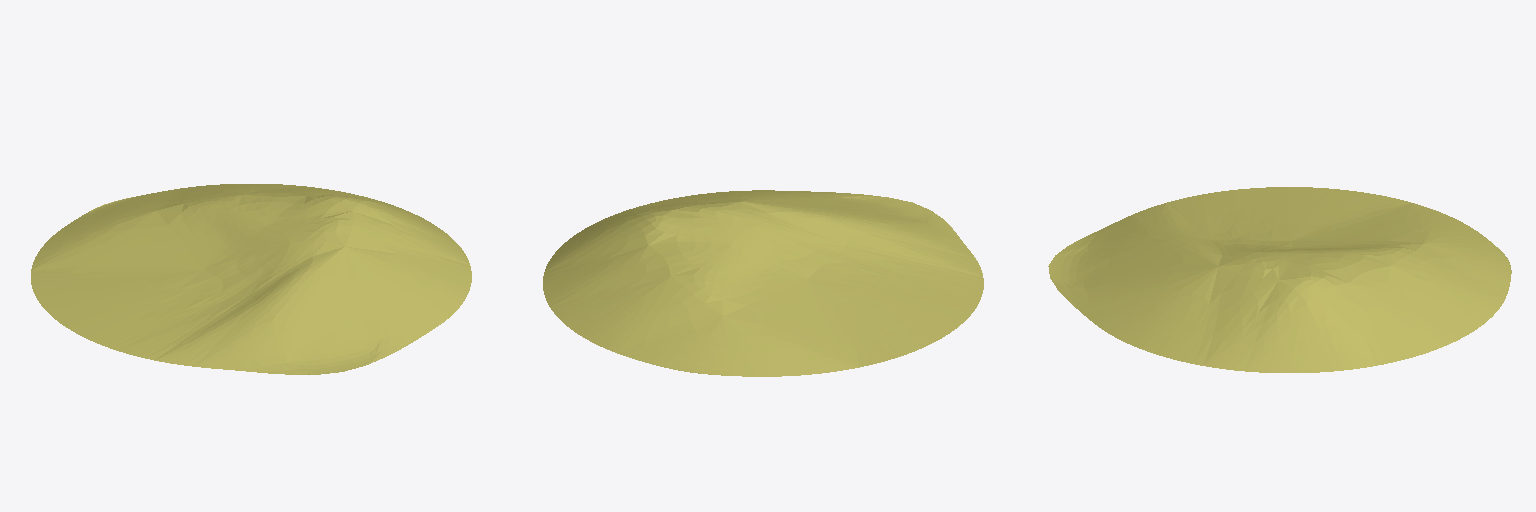
The model's file is island1.obj.
3 views of the same model, side by side, from view 1: azimuth 30°, elevation 25°; view 2: azimuth 150°, elevation 25°; view 3: azimuth 270°, elevation 25° (orthographic).
Visible parts, largest first — view 1: Terrain001; view 2: Terrain001; view 3: Terrain001.
Boxes of the visible parts, <box> form: Terrain001: <box>31,184,471,374</box>; Terrain001: <box>543,190,983,376</box>; Terrain001: <box>1048,187,1511,372</box>.
Size of the model in its own units: 16.06 by 1.95 by 16.87.